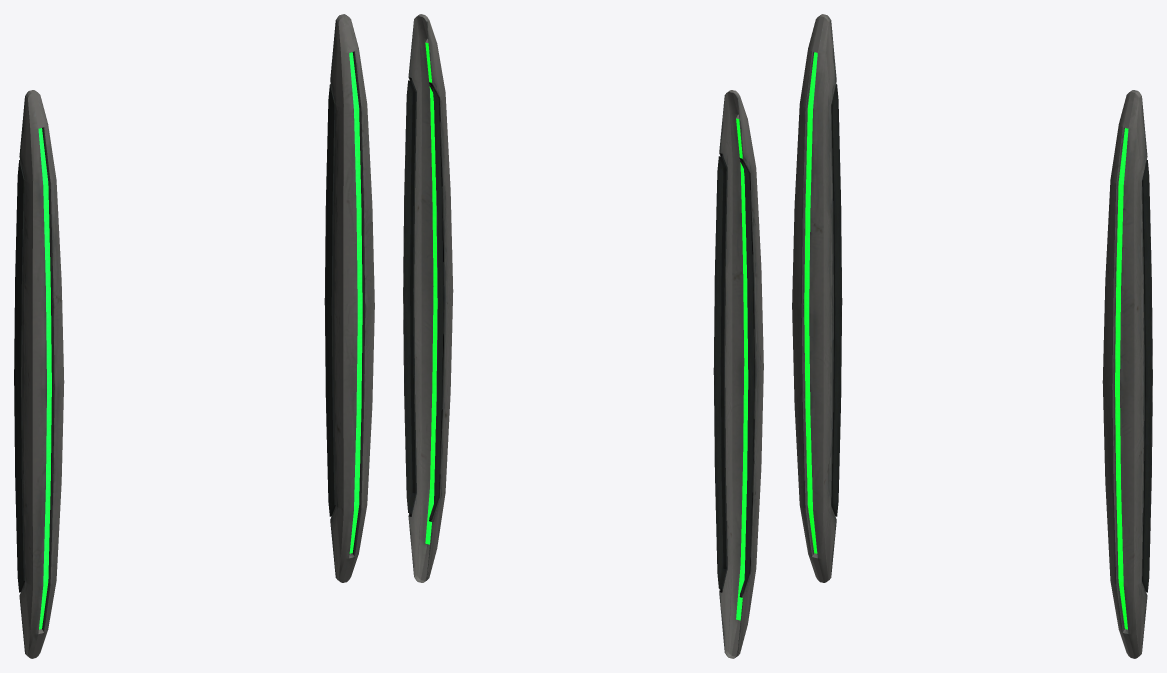
The model's file is portal_1_style_time_portal_autoportal_frame.glb.
3 views of the same model, side by side, from view 1: azimuth 30°, elevation 25°; view 2: azimuth 150°, elevation 25°; view 3: azimuth 330°, elevation 25° (orthographic).
Visible parts, largest first — view 1: Object_2; view 2: Object_2; view 3: Object_2.
Boxes of the visible parts, x1=… form: Object_2: x1=14, y1=14, x2=374, y2=658; Object_2: x1=403, y1=14, x2=763, y2=658; Object_2: x1=792, y1=14, x2=1152, y2=658.
Bounding box in the file's own units: 80.09 × 125 × 7.84.
Materials: 1 (1 with a texture image).
